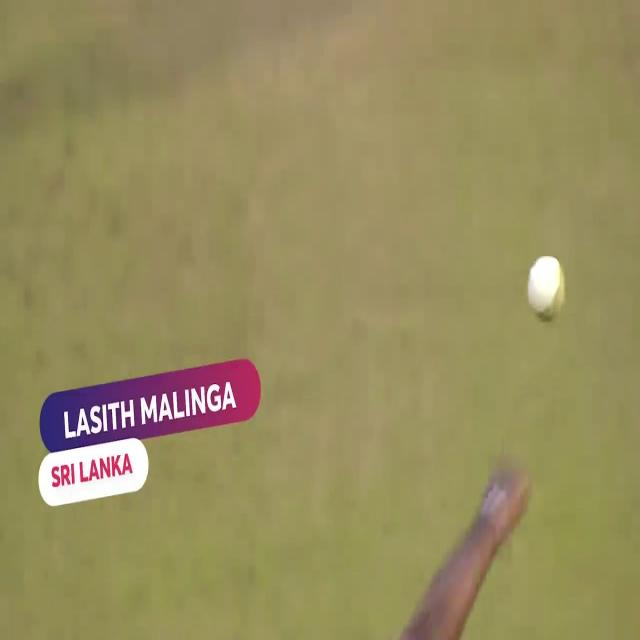ball: (526, 255, 566, 323)
